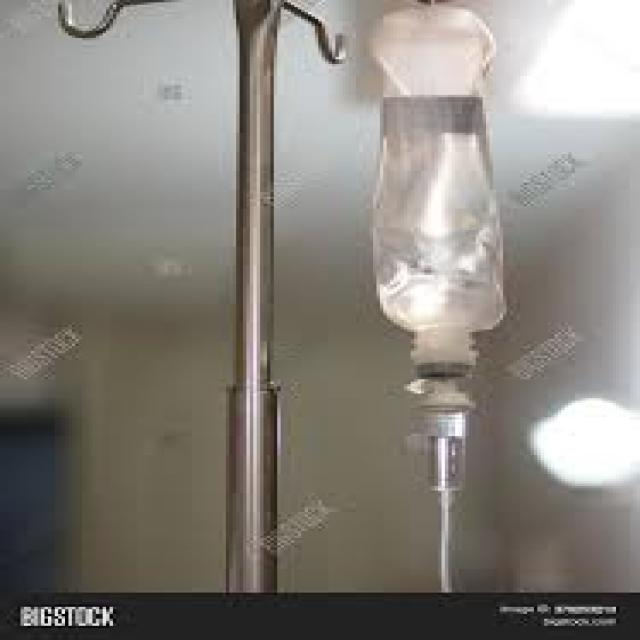B3: (356, 12, 567, 395)
